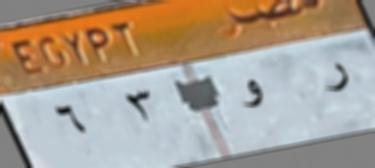6: (50, 102, 92, 144)
raa: (316, 56, 354, 103)
waw: (233, 74, 270, 114), (126, 83, 156, 130)
